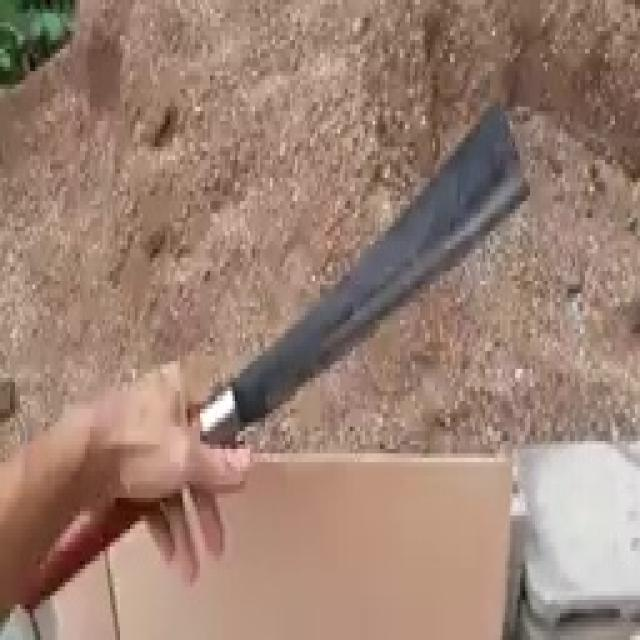eto: (12, 103, 530, 616)
